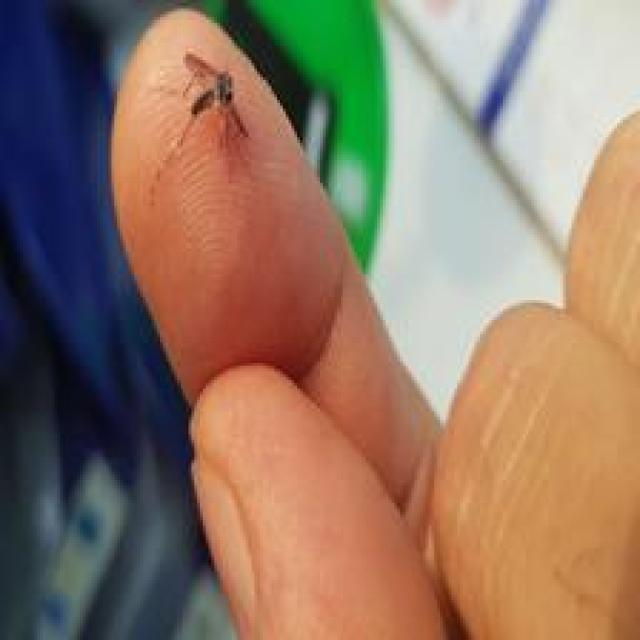Aedes albopictus: (173, 50, 250, 150)
